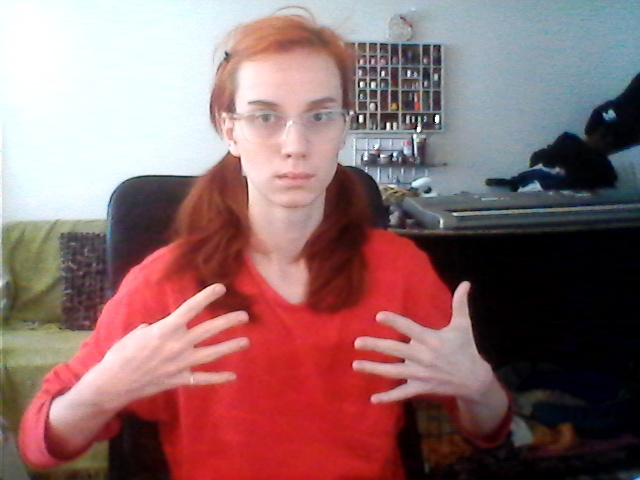devat: (128, 274, 485, 412)
